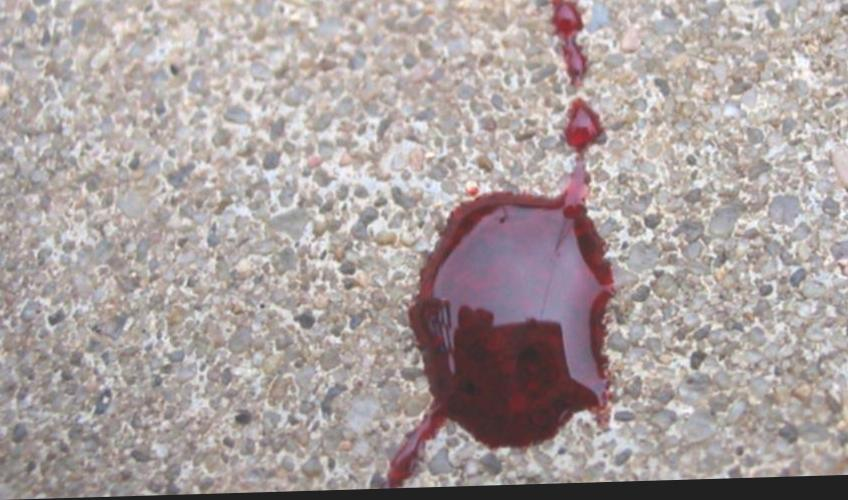Fire: (380, 101, 617, 491), (550, 0, 589, 91)
